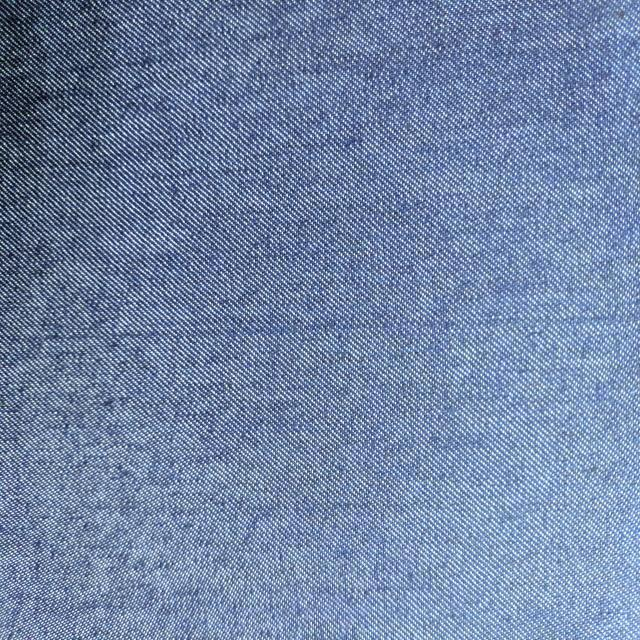Line: (42, 313, 624, 345)
